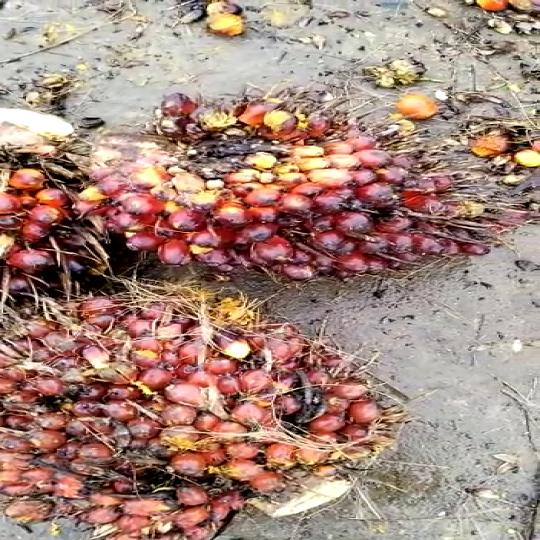masak: (0, 282, 428, 539), (112, 84, 530, 298)
